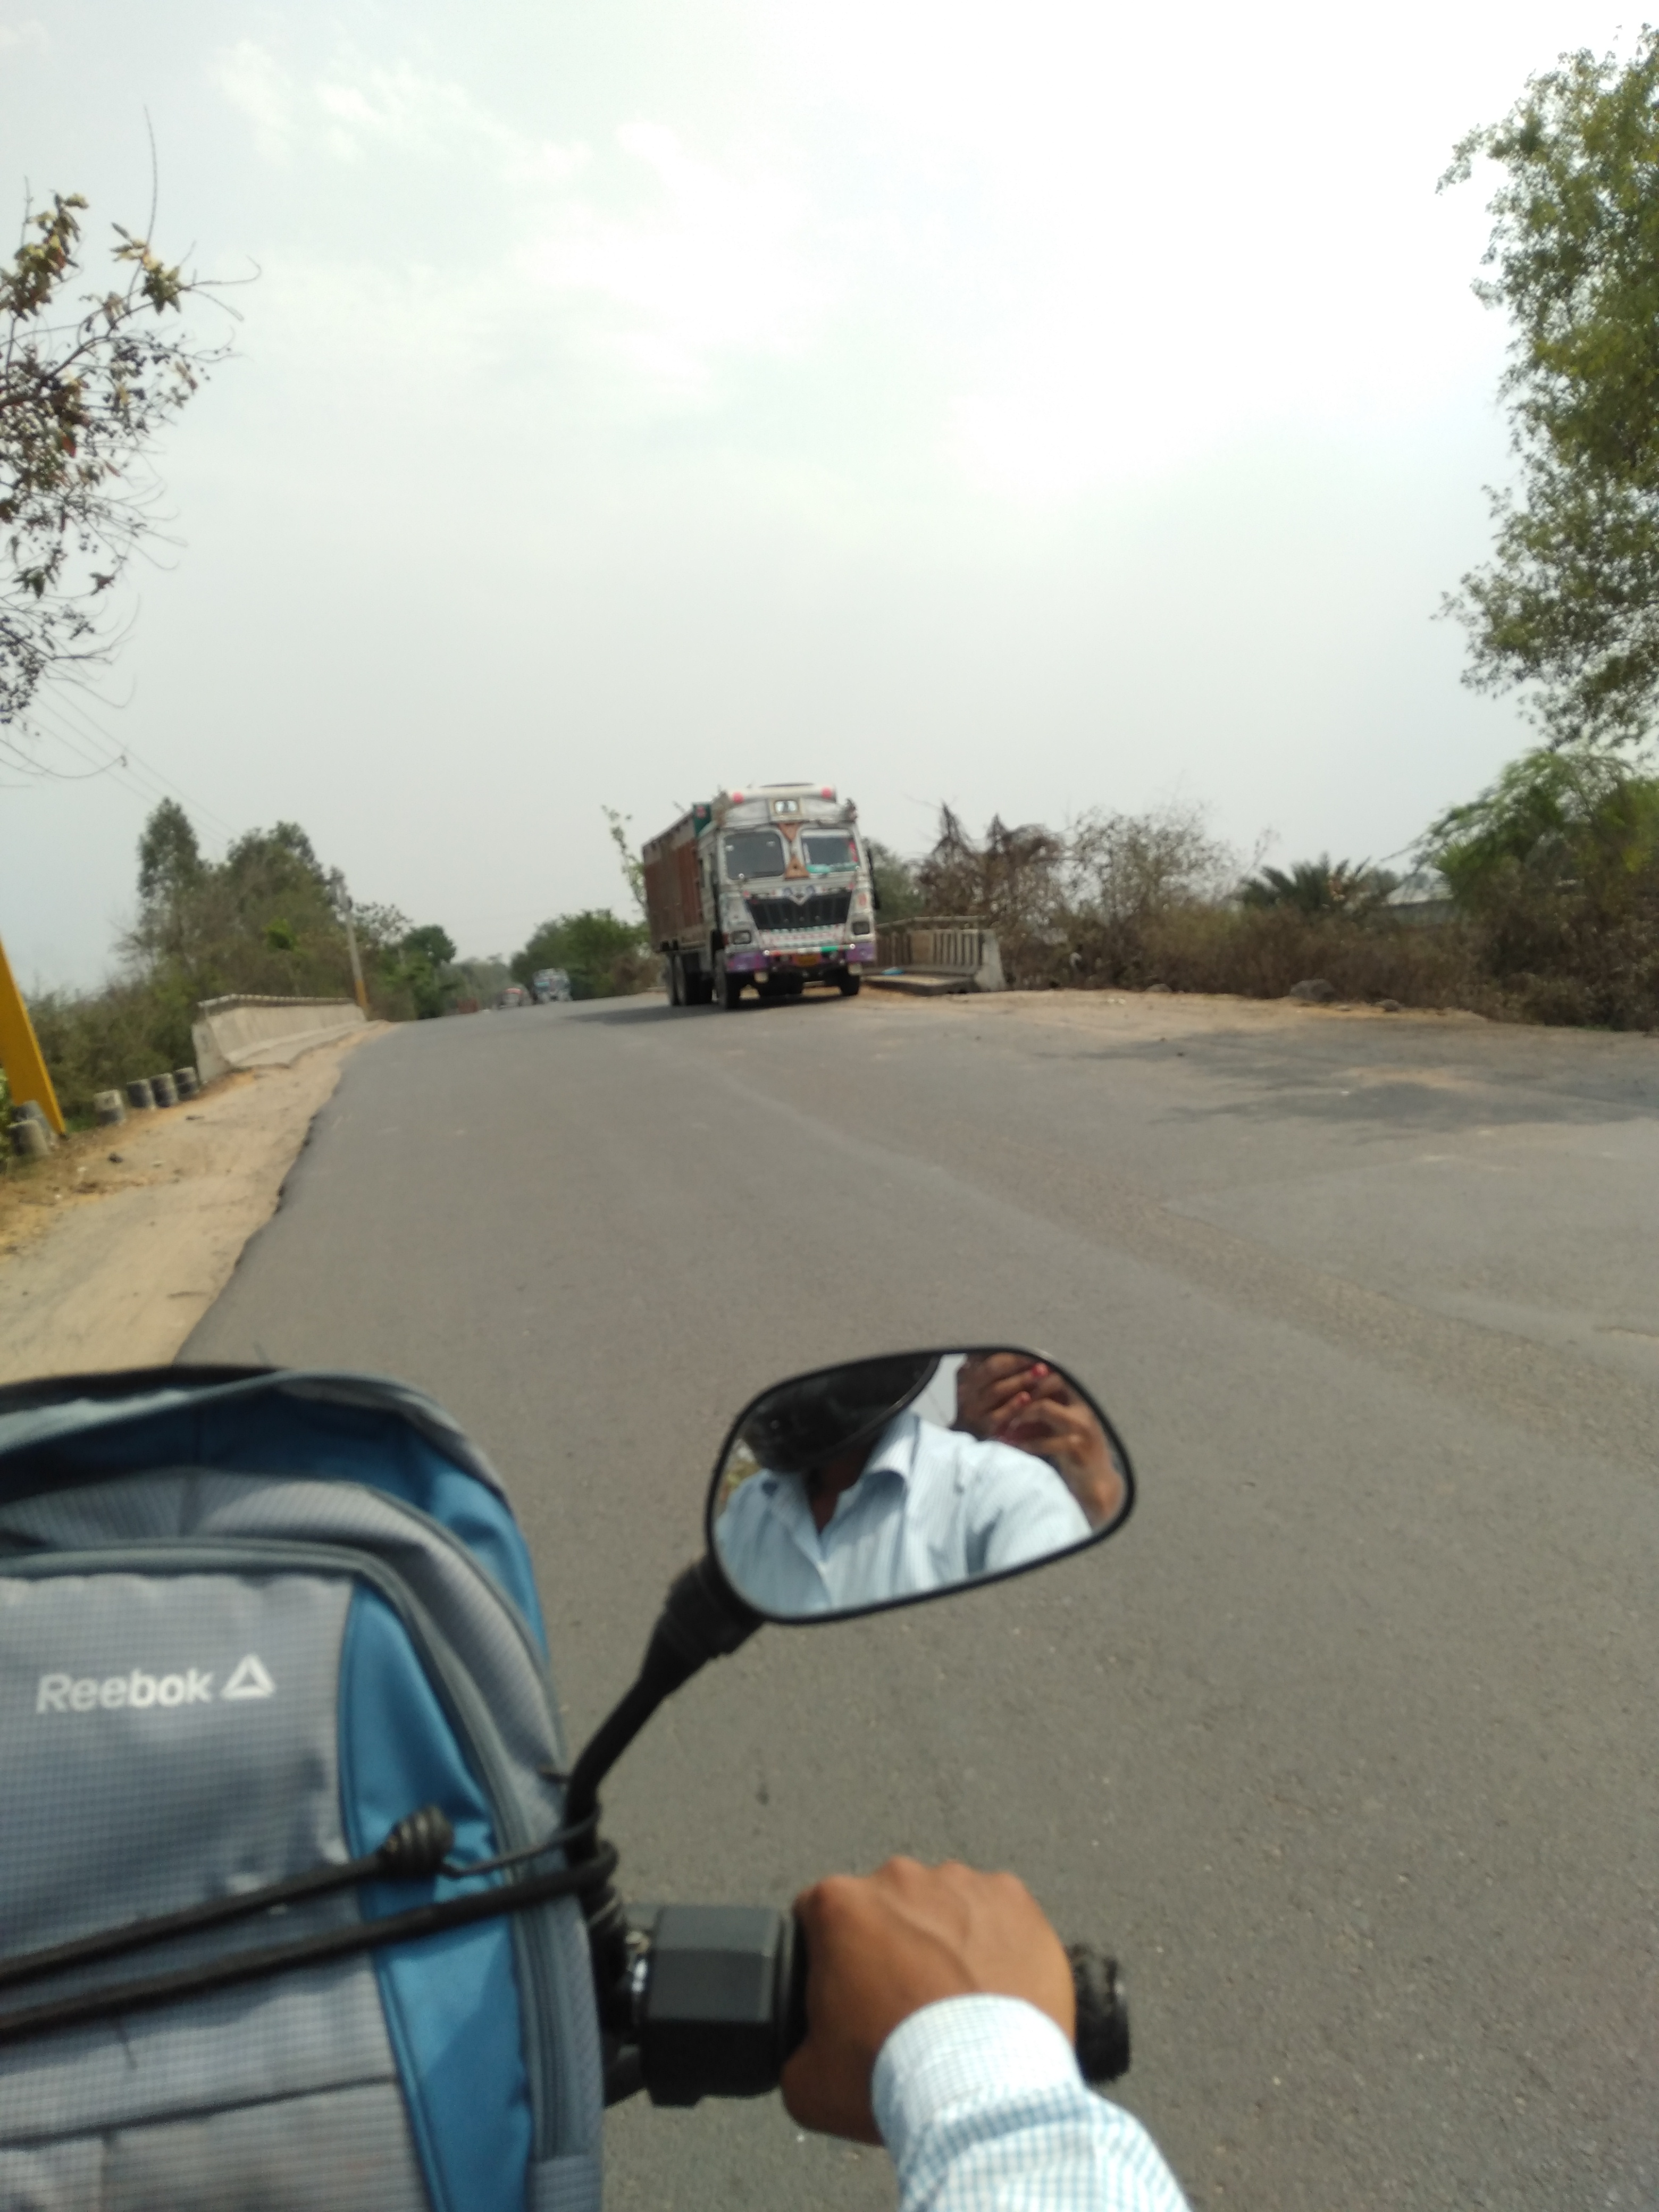truck: (640, 780, 882, 1010), (530, 967, 573, 1003)
